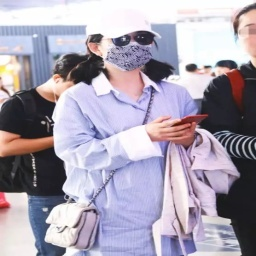correctlyWear: (86, 27, 161, 71)
noWear: (234, 13, 256, 59)
